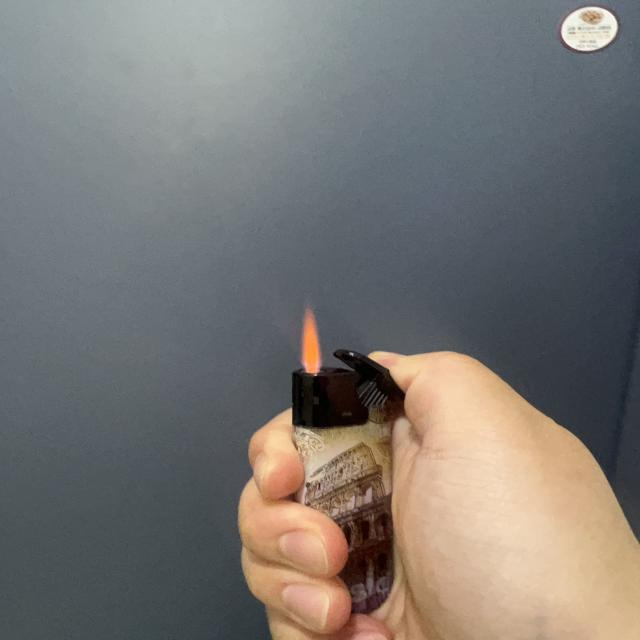fire: (298, 304, 328, 376)
